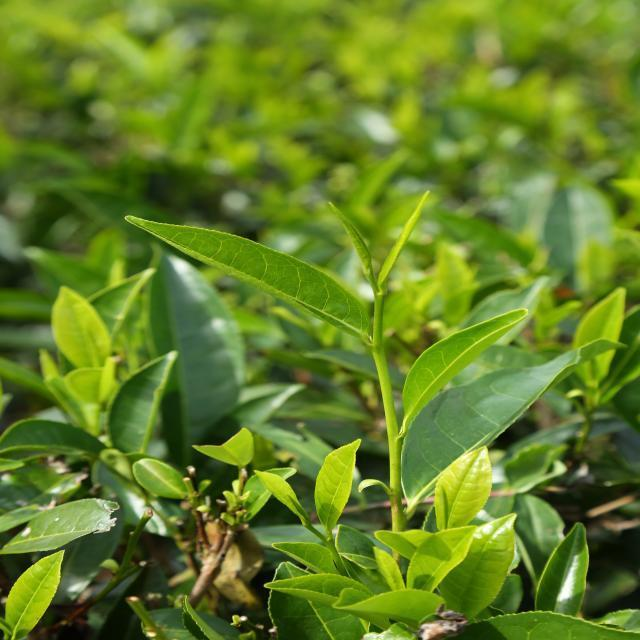Stem: (373, 340, 383, 352), (327, 540, 333, 547)
